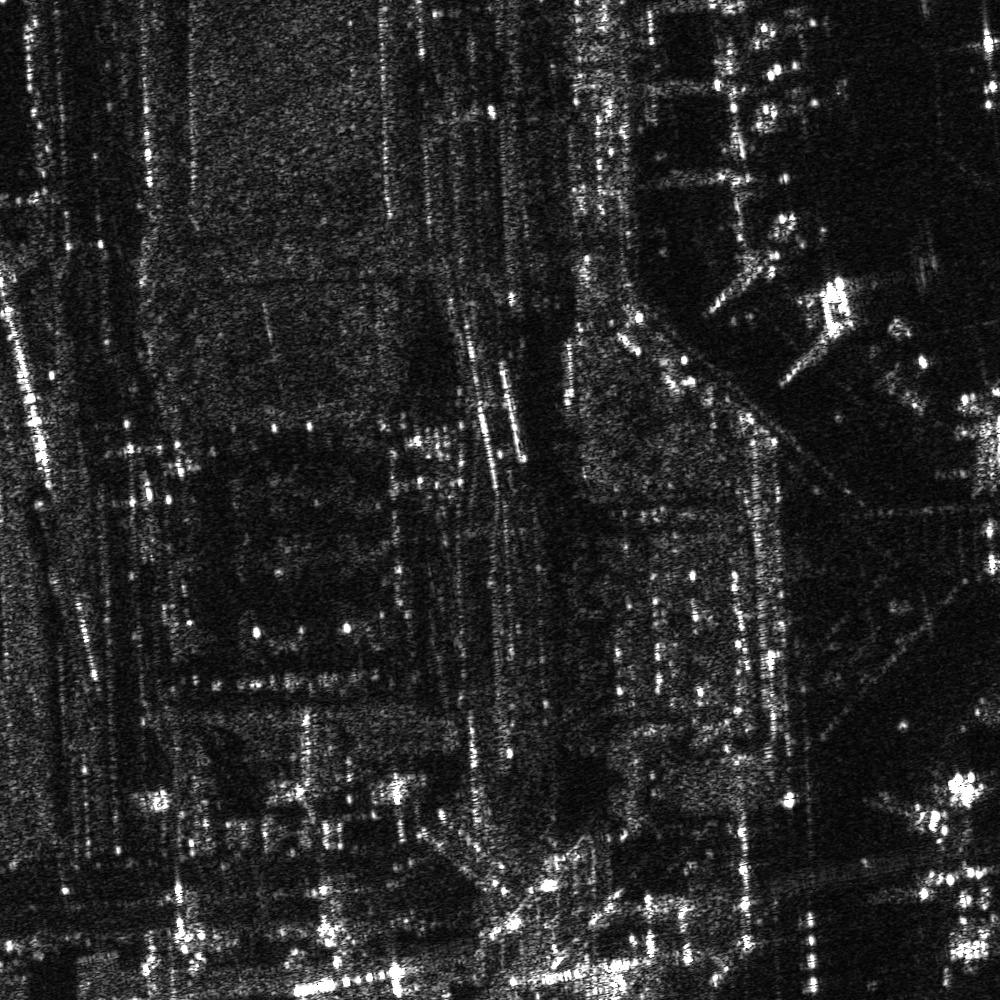A220: (760, 73, 862, 143)
Boeing737: (966, 25, 999, 117)
